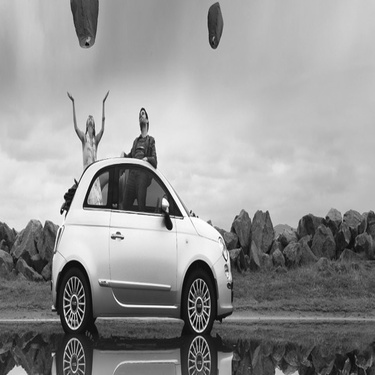car: (45, 156, 240, 335)
